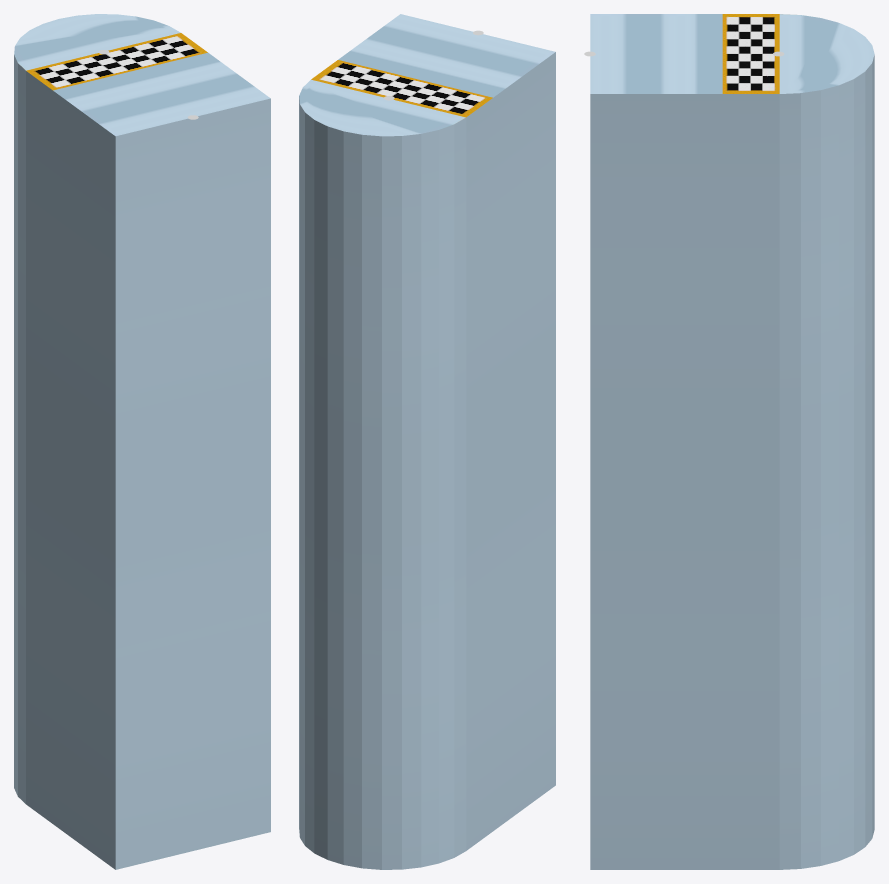
File: 1_finish_platform.fbx
The picture shows the model from 3 angles, left to right: view 1: azimuth 30°, elevation 25°; view 2: azimuth 150°, elevation 25°; view 3: azimuth 270°, elevation 25°; orthographic projection. The views are drawn at different scales.
Visible parts, largest first — view 1: start_end.002; view 2: start_end.002; view 3: start_end.002.
Boxes of the visible parts, box(x1,y1,x2,y2) form: start_end.002: box(14, 14, 270, 869); start_end.002: box(299, 14, 555, 869); start_end.002: box(590, 14, 874, 869).
Size of the model in its own units: 1214 by 5479 by 1858.
